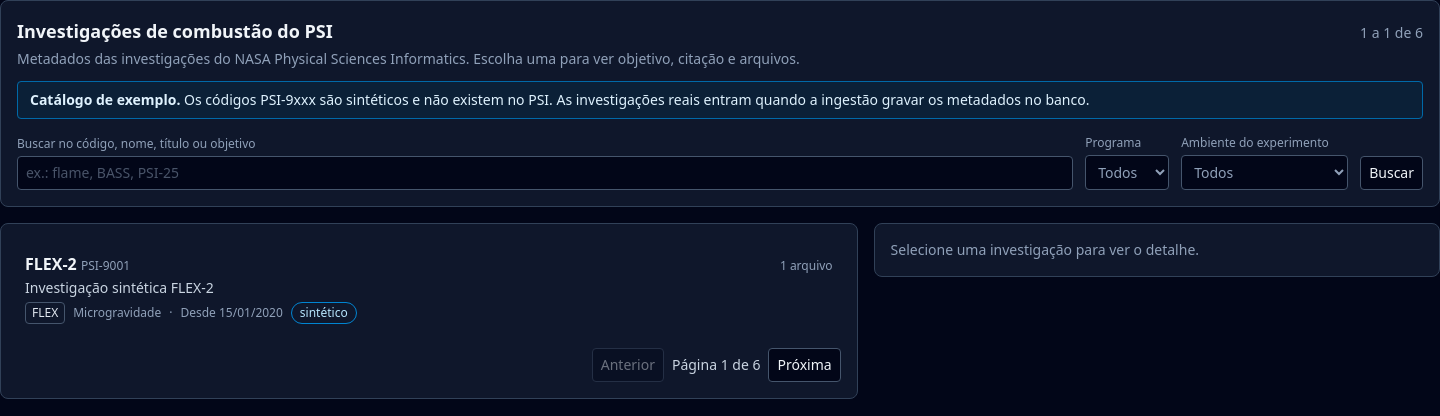
Test: InvestigationsCatalog › pagina com os botões e desabilita nas pontas
Check: the text "Página 1 de 6" is shown, box [672,355,760,375]
Check: the button "Anterior" is disabled, box [592,348,664,382]
Click the button "Próxima" at (805, 365), box [768,348,841,382]
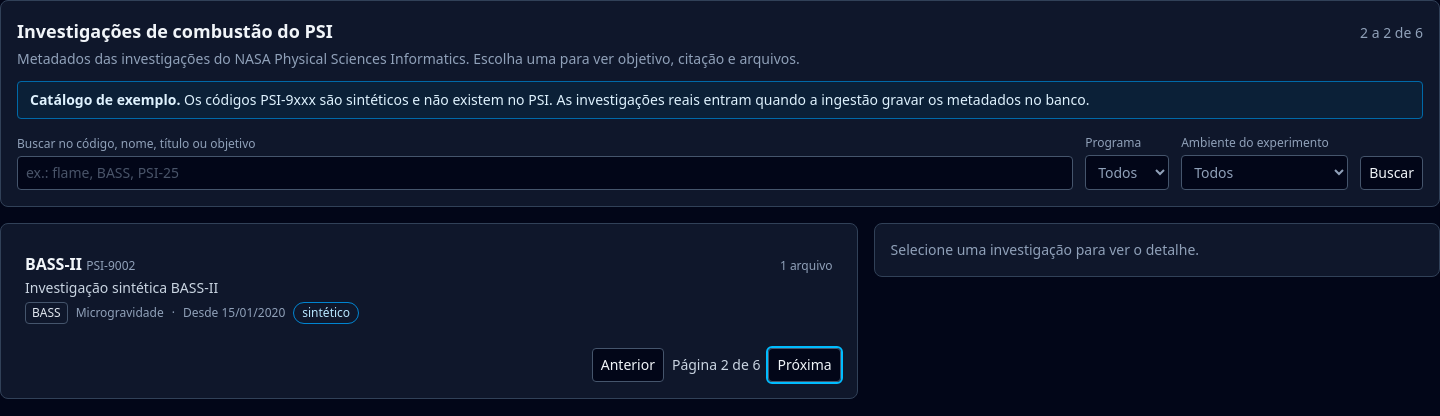
Check: the text "Página 2 de 6" is shown, box [672,355,760,375]
Check: the text "2 a 2 de 6" is shown, box [1360,23,1423,43]
Check: the text "BASS-II" is shown, box [25,253,82,275]
